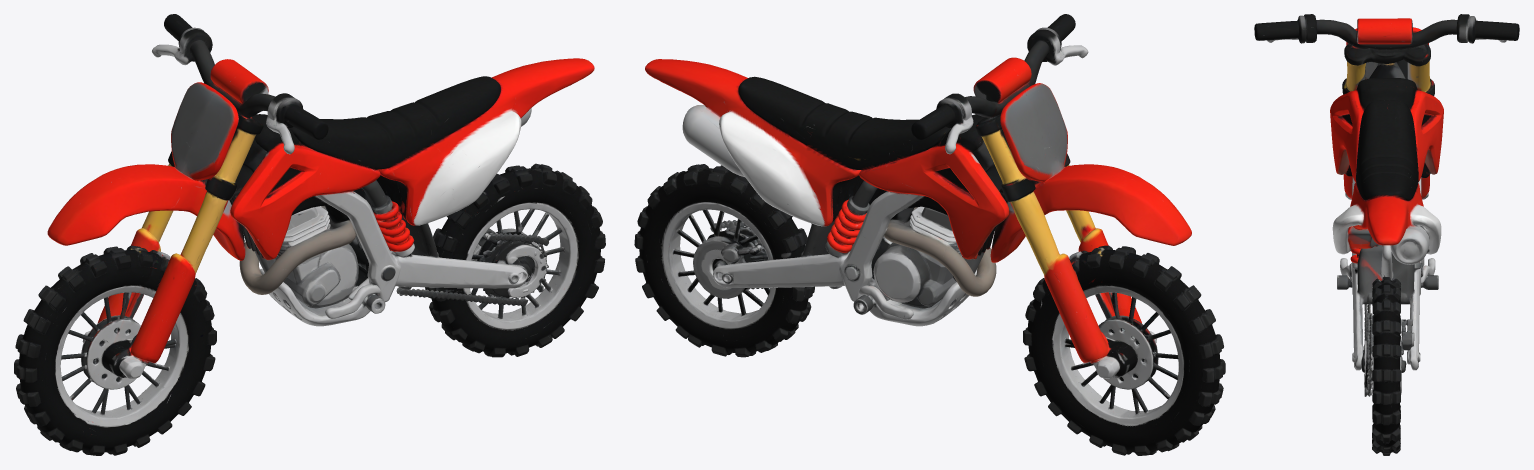
File: red-dirt-bike-lite.glb
3 renders of one model, left to right at view 1: azimuth 30°, elevation 25°; view 2: azimuth 150°, elevation 25°; view 3: azimuth 270°, elevation 25°, orthographic. The views are drawn at different scales.
Bounding box in the file's own units: 1.9 × 1.12 × 0.8505.
Materials: 1 (1 with a texture image).
